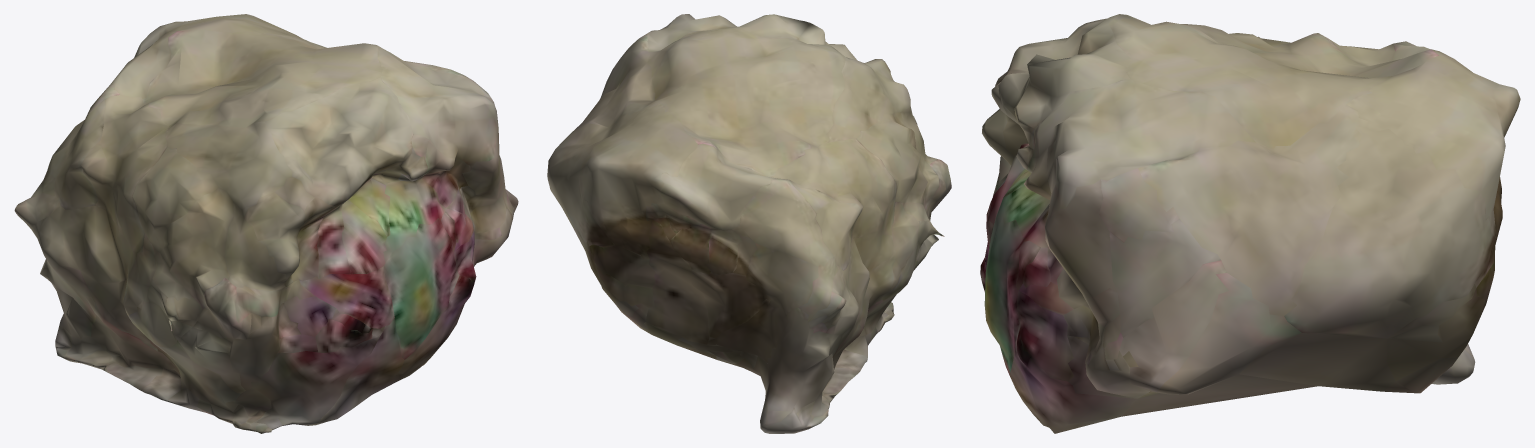
File: hall.glb
3 renders of one model, left to right at view 1: azimuth 30°, elevation 25°; view 2: azimuth 150°, elevation 25°; view 3: azimuth 270°, elevation 25°, orthographic. The views are drawn at different scales.
Bounding box in the file's own units: 0.6045 × 0.4769 × 0.5593.
Materials: 1 (1 with a texture image).
